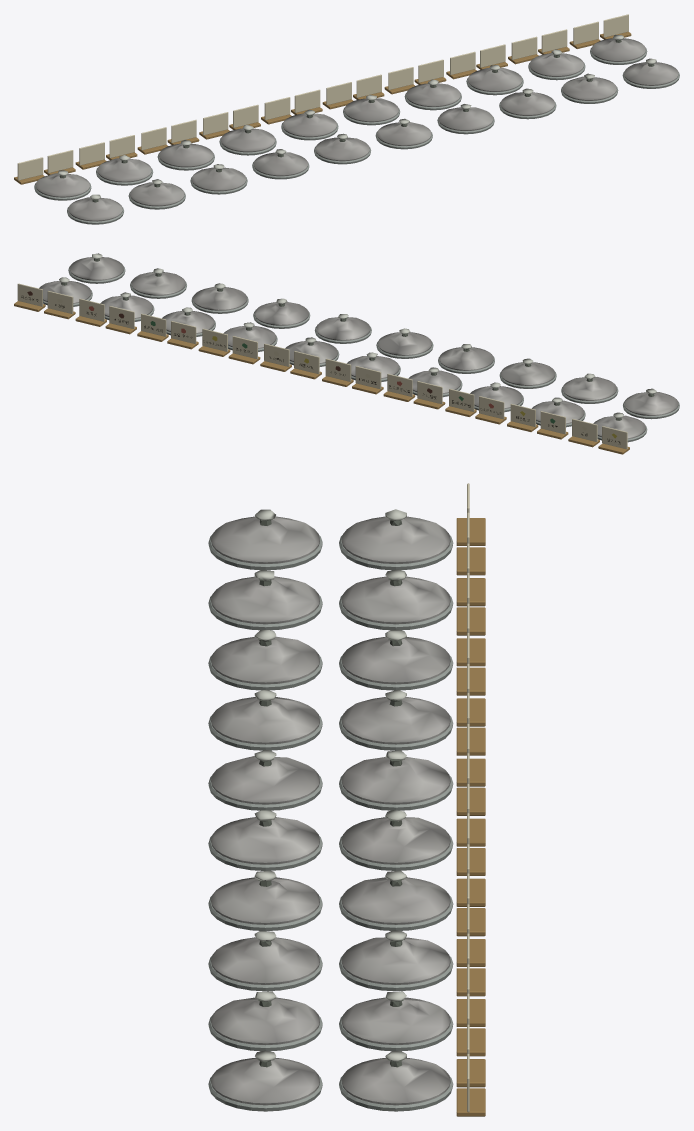
File: wells.glb
The picture shows the model from 3 angles, top to bottom: view 1: azimuth 30°, elevation 25°; view 2: azimuth 150°, elevation 25°; view 3: azimuth 270°, elevation 25°; orthographic projection. The views are drawn at different scales.
Visible parts, largest first — view 1: Gelati_wells; view 2: Gelati_wells; view 3: Gelati_wells.
Part boxes in pixels (x1=…): Gelati_wells: x1=14, y1=14, x2=679, y2=224; Gelati_wells: x1=14, y1=253, x2=679, y2=454; Gelati_wells: x1=208, y1=483, x2=485, y2=1116.
Size of the model in its own units: 4.21 by 0.1289 by 0.8282.
